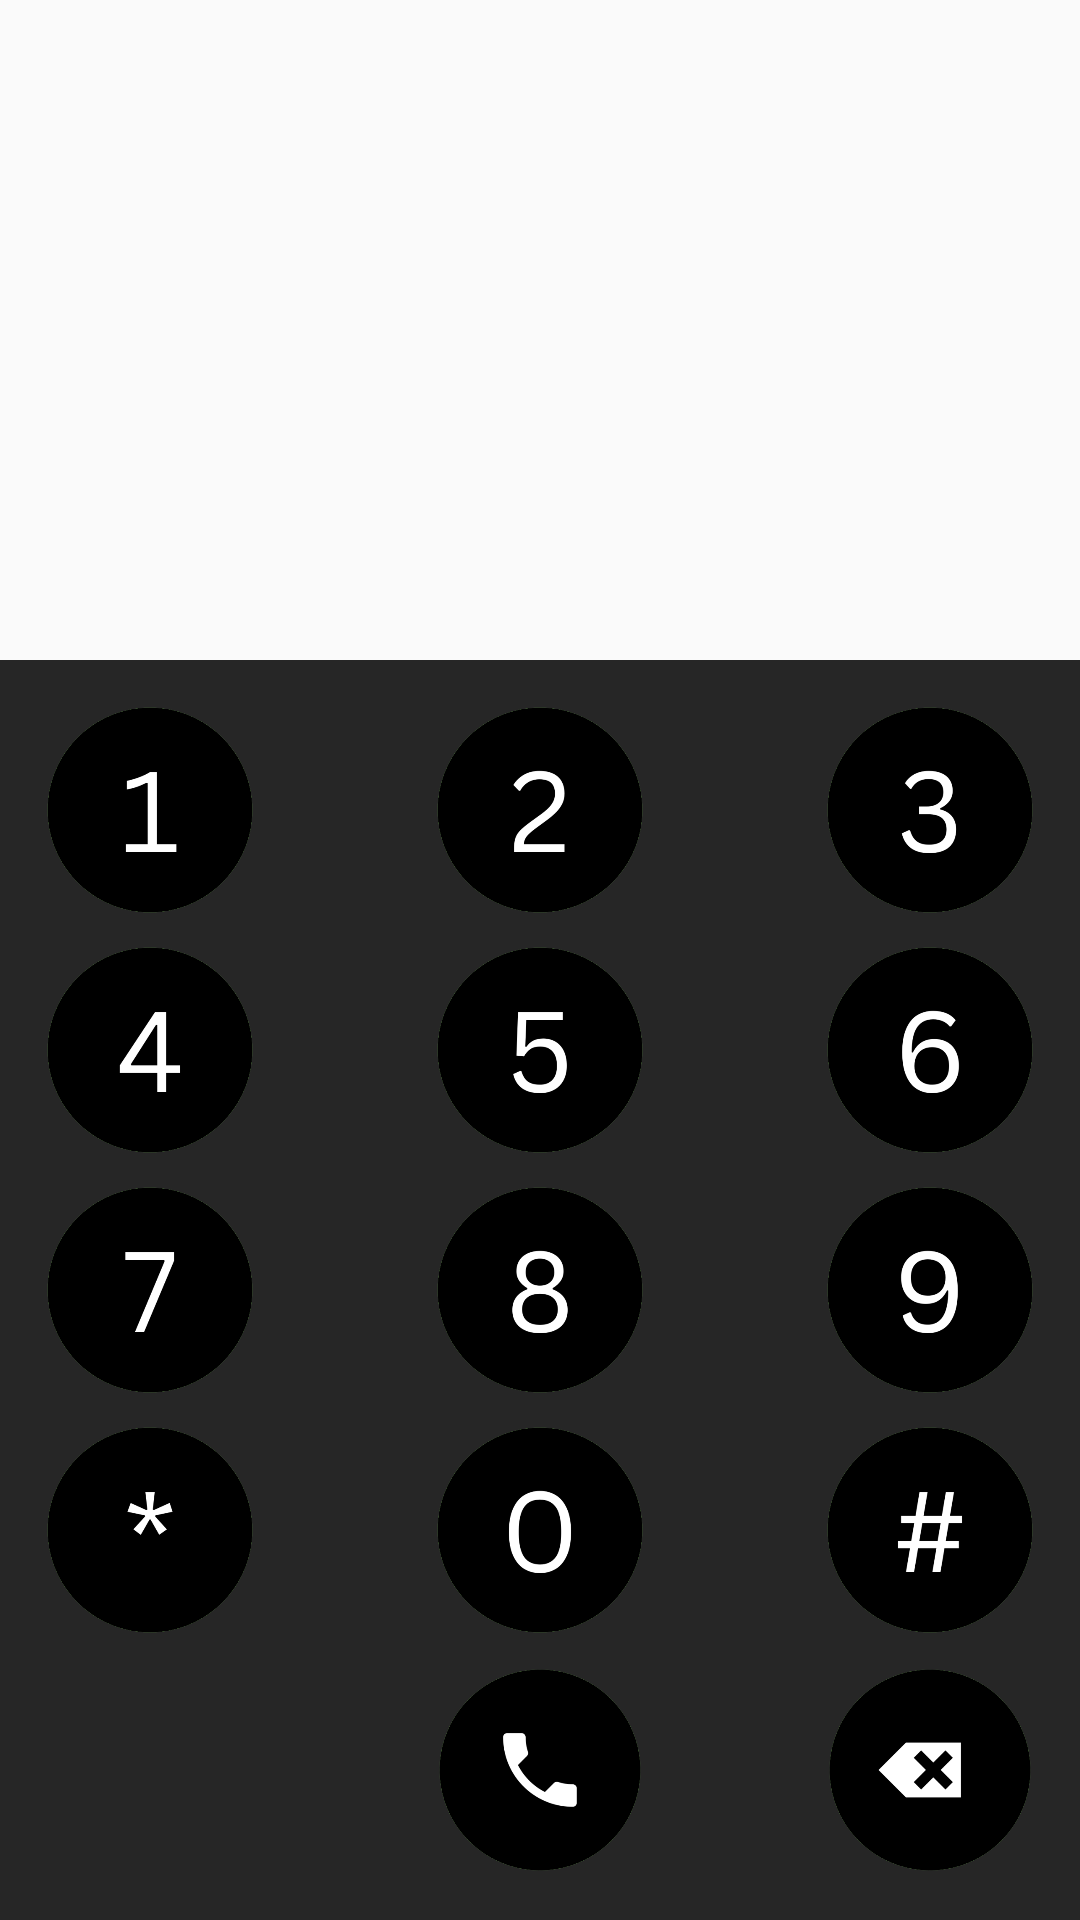

Icon click points for this 1080 x 1920 phone screenshot, format (x,y):
call cir: (540,1770)
cross: (930,1770)
